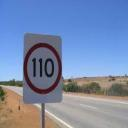speed_limit_110: (24, 43, 62, 94)
